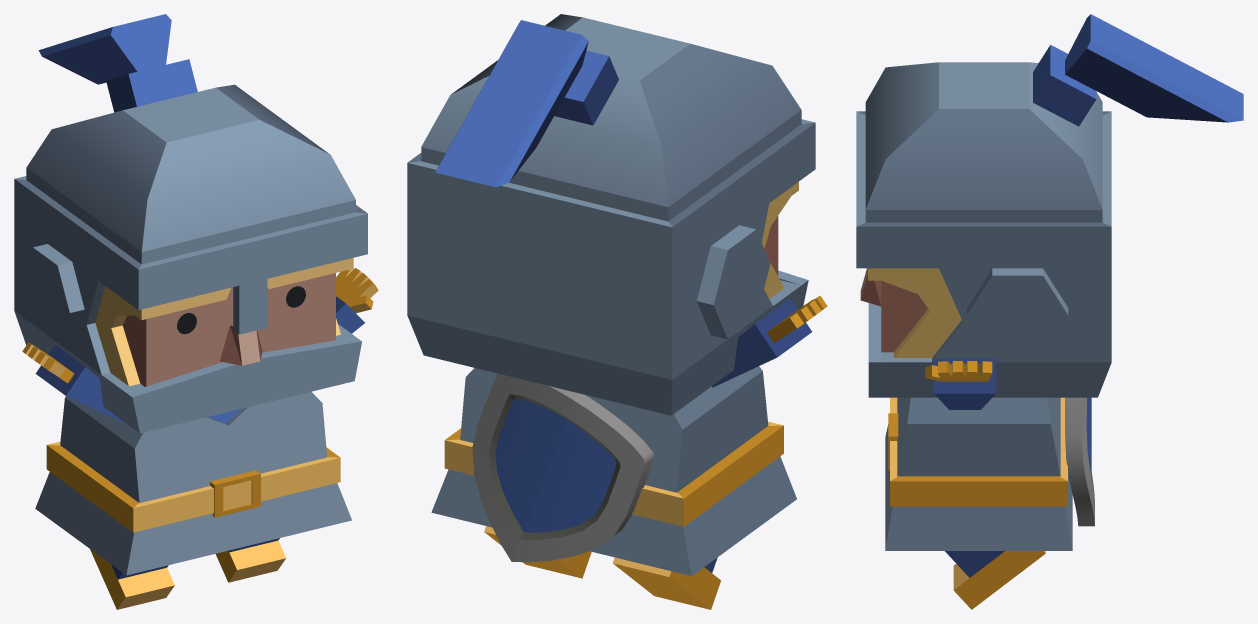
The model's file is Ch_239@Down.FBX.
3 renders of one model, left to right at view 1: azimuth 30°, elevation 25°; view 2: azimuth 150°, elevation 25°; view 3: azimuth 270°, elevation 25°, orthographic. The views are drawn at different scales.
Visible parts, largest first — view 1: Ch_239_Head, Ch_239, Ch_239_Arm_L, Ch_239_Leg_L, Ch_239_Leg_R, Ch_239_Arm_R, Ch_239_Eye_01; view 2: Ch_239_Head, Ch_239, Ch_239_Arm_L, Ch_239_Leg_L, Ch_239_Leg_R; view 3: Ch_239_Head, Ch_239, Ch_239_Leg_R, Ch_239_Arm_R.
Part boxes in pixels (<box>): Ch_239_Head: <box>14,14,367,433</box>; Ch_239: <box>35,391,351,575</box>; Ch_239_Arm_L: <box>22,342,122,421</box>; Ch_239_Leg_L: <box>90,549,174,609</box>; Ch_239_Leg_R: <box>215,538,286,582</box>; Ch_239_Arm_R: <box>336,268,378,333</box>; Ch_239_Eye_01: <box>177,286,305,334</box>; Ch_239_Head: <box>407,14,815,415</box>; Ch_239: <box>431,366,796,575</box>; Ch_239_Arm_L: <box>712,295,827,387</box>; Ch_239_Leg_L: <box>613,557,720,609</box>; Ch_239_Leg_R: <box>484,526,591,578</box>; Ch_239_Head: <box>856,14,1243,397</box>; Ch_239: <box>885,397,1094,550</box>; Ch_239_Leg_R: <box>945,551,1045,609</box>; Ch_239_Arm_R: <box>925,358,996,409</box>.
Bounding box in the file's own units: 8.44 × 12.71 × 8.22.
